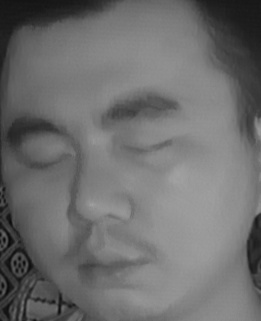blink: (120, 125, 174, 164), (22, 142, 72, 179)
mouth: (69, 237, 152, 291)
